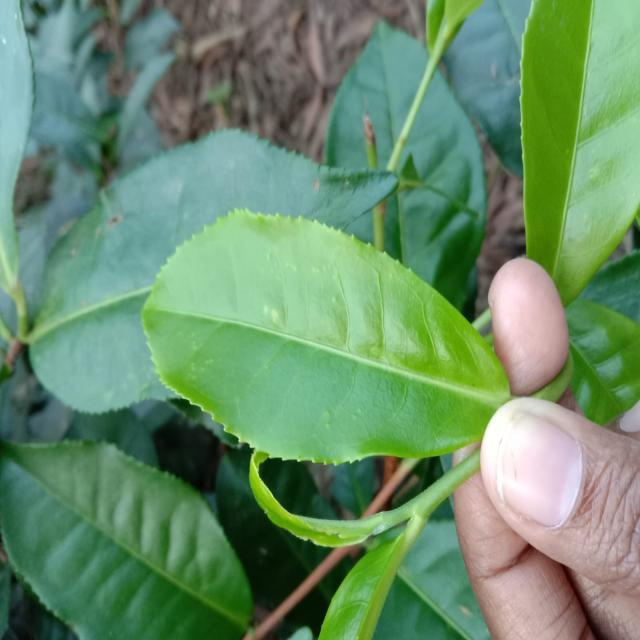Category C 4-7 days: (122, 179, 521, 466)
